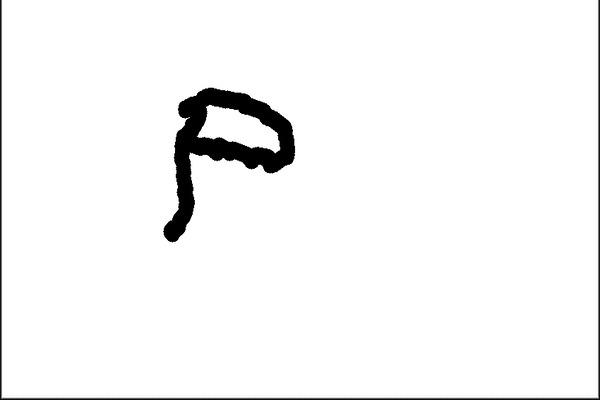P: (145, 74, 308, 254)
